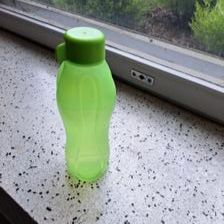bottle: (55, 25, 116, 181)
